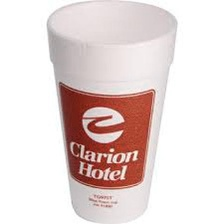paper_cup: (41, 0, 181, 224)
